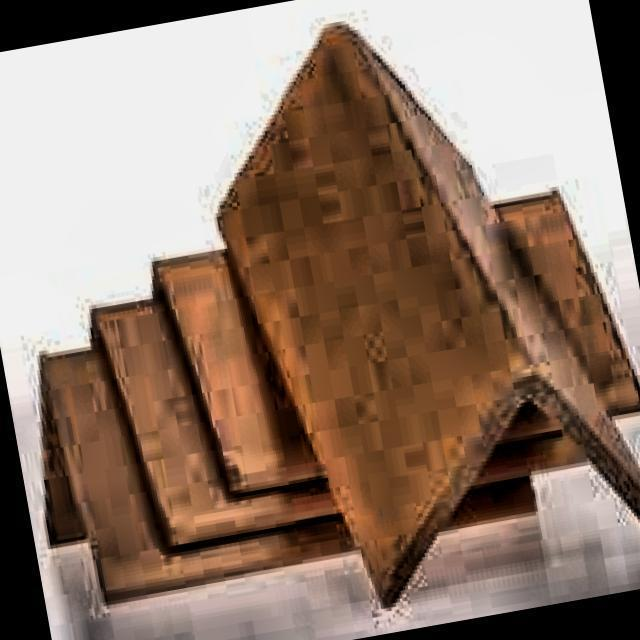cardboard: (186, 0, 640, 625)
